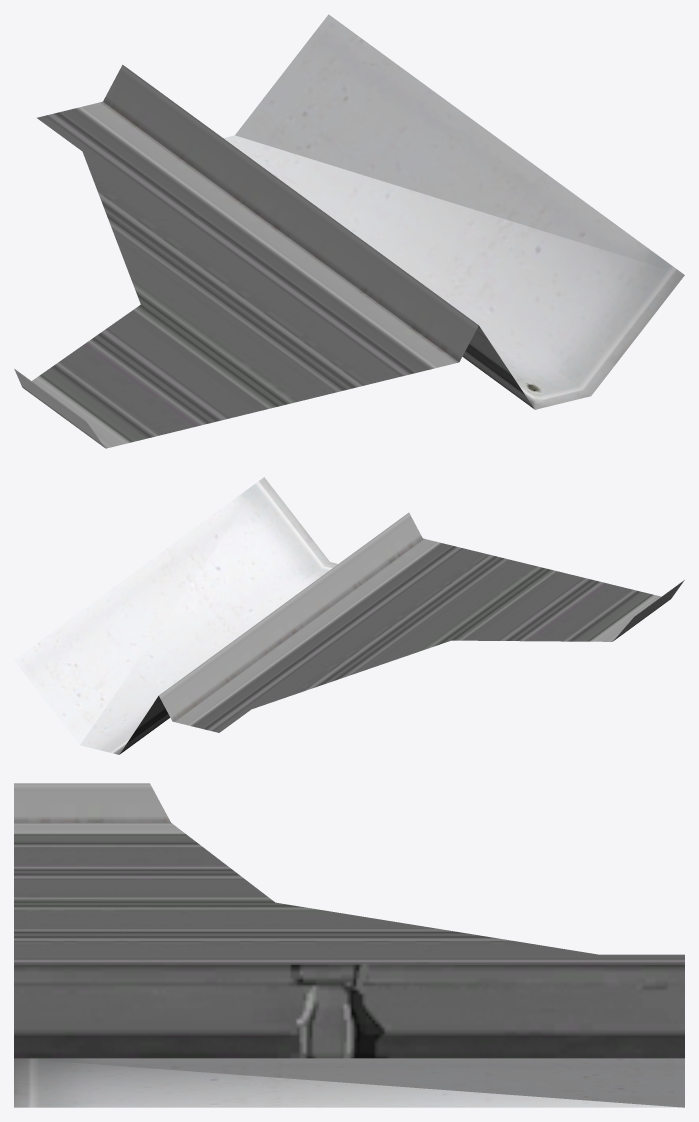
Rendered from CeilingBrace_hospcap1x1.FBX.
3 renders of one model, top to bottom at view 1: azimuth 30°, elevation 25°; view 2: azimuth 150°, elevation 25°; view 3: azimuth 270°, elevation 25°, orthographic. The views are drawn at different scales.
Parts seen in each view (by area): view 1: CeilingBrace_hospcap1x1; view 2: CeilingBrace_hospcap1x1; view 3: CeilingBrace_hospcap1x1.
Boxes of the visible parts, x1=… form: CeilingBrace_hospcap1x1: x1=14, y1=14, x2=684, y2=448; CeilingBrace_hospcap1x1: x1=14, y1=477, x2=684, y2=754; CeilingBrace_hospcap1x1: x1=14, y1=783, x2=684, y2=1107.
Size of the model in its own units: 0.9702 by 0.152 by 1.
